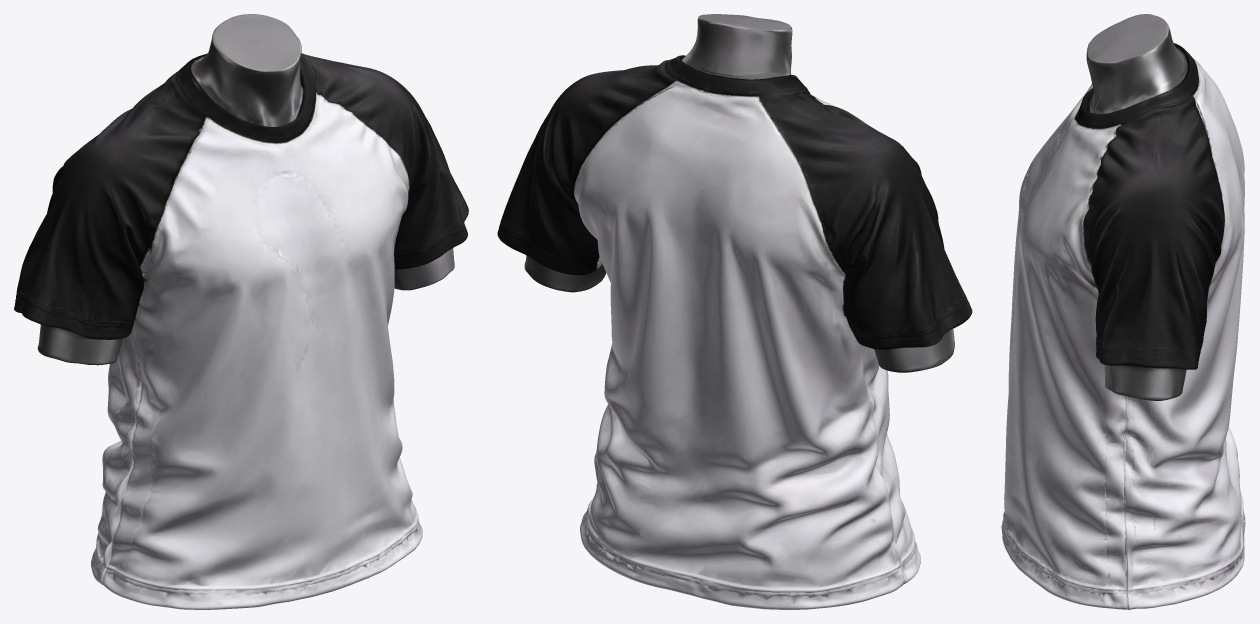
Rendered from tshirt.glb.
3 renders of one model, left to right at view 1: azimuth 30°, elevation 25°; view 2: azimuth 150°, elevation 25°; view 3: azimuth 270°, elevation 25°, orthographic. The views are drawn at different scales.
Visible parts, largest first — view 1: tripo_node_3f94ddc6-04ed-4ad7-8af9-1931ffe0c262; view 2: tripo_node_3f94ddc6-04ed-4ad7-8af9-1931ffe0c262; view 3: tripo_node_3f94ddc6-04ed-4ad7-8af9-1931ffe0c262.
Boxes of the visible parts, x1,y1,x2,y2 form: tripo_node_3f94ddc6-04ed-4ad7-8af9-1931ffe0c262: [14, 14, 468, 609]; tripo_node_3f94ddc6-04ed-4ad7-8af9-1931ffe0c262: [497, 14, 972, 609]; tripo_node_3f94ddc6-04ed-4ad7-8af9-1931ffe0c262: [1001, 14, 1245, 609].
Bounding box in the file's own units: 0.8615 × 0.9788 × 0.4188.
1 material, 1 textured.
